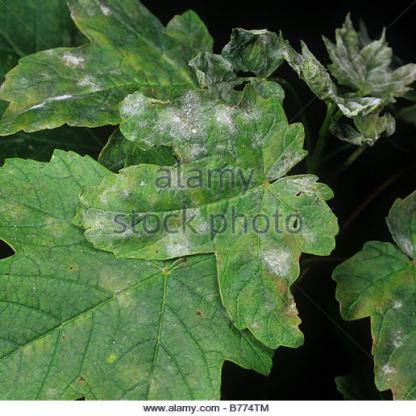squash powdery mildew leaf: (86, 72, 327, 188)
